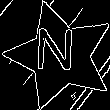N_S: (38, 29, 82, 82)
